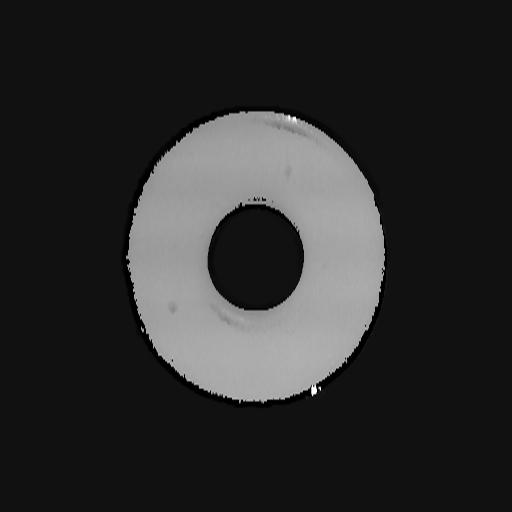defect: (166, 300, 178, 314), (284, 165, 293, 179)
